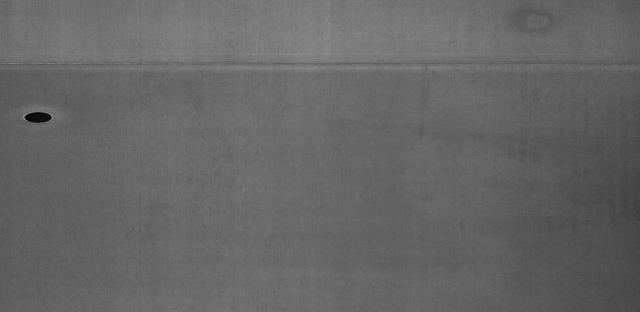punching_hole: (17, 104, 58, 128)
welding_line: (1, 54, 640, 77)
